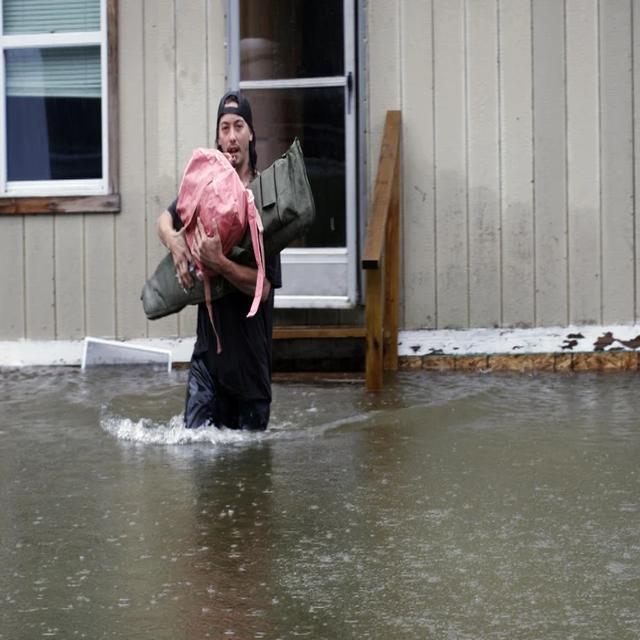Person-RiskLevel2: (150, 94, 281, 443)
